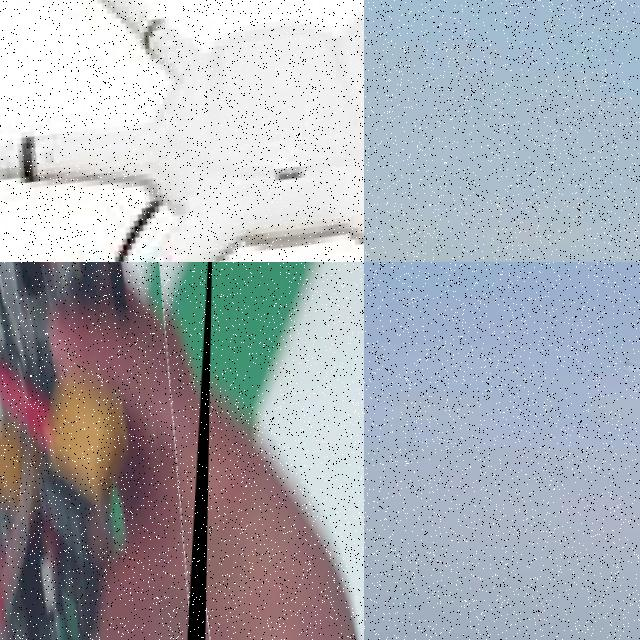drone: (0, 0, 364, 262), (0, 262, 213, 640)
